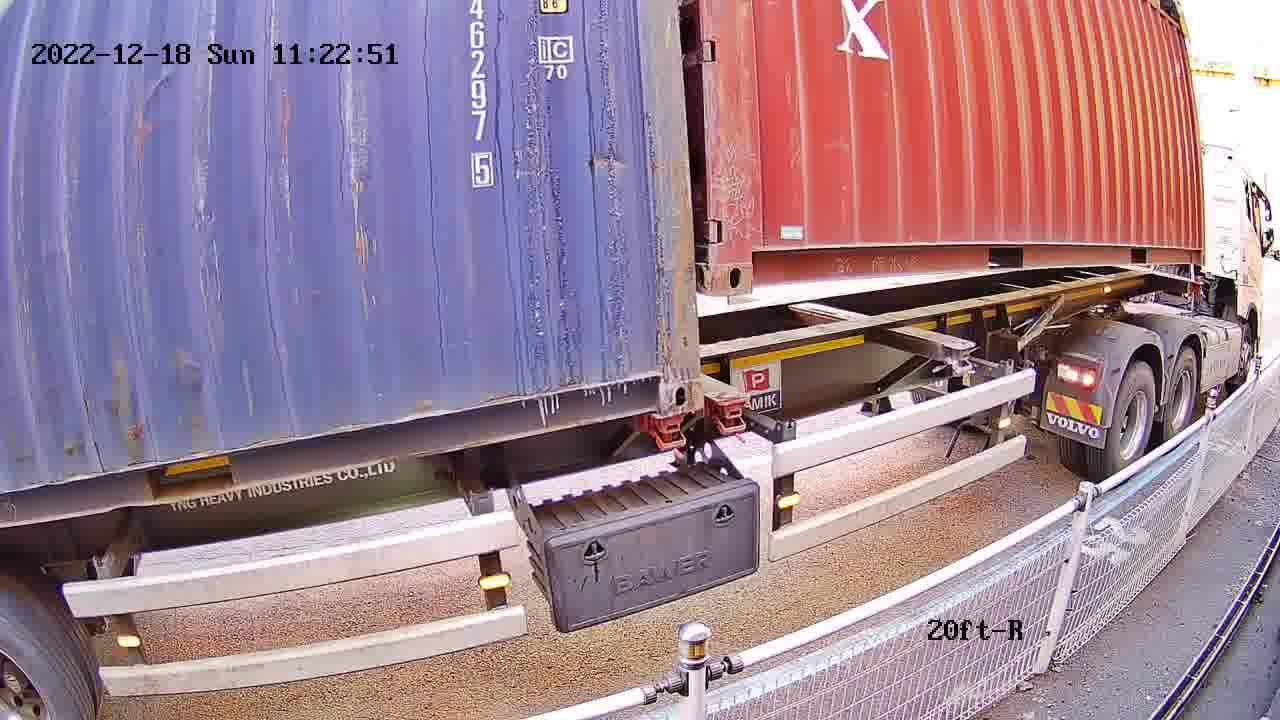Cone: (638, 414, 688, 454), (709, 391, 746, 440)
Hole_L: (707, 224, 781, 294)
Hole_R: (626, 342, 705, 414)
Tire: (1110, 367, 1156, 471), (1166, 352, 1198, 441)
